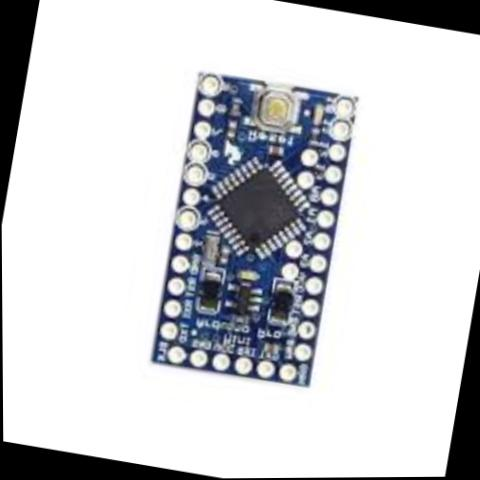Arduino-Pro-Mini: (126, 51, 383, 416)
